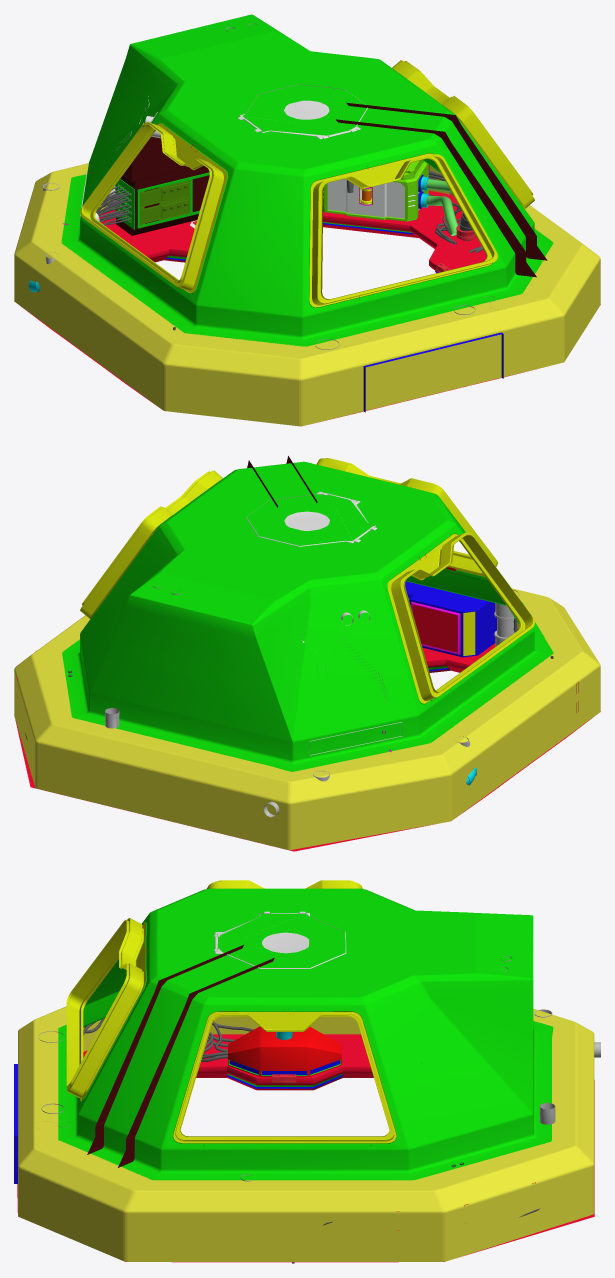
The model's file is ceiling.fbx.
The picture shows the model from 3 angles, top to bottom: view 1: azimuth 30°, elevation 25°; view 2: azimuth 150°, elevation 25°; view 3: azimuth 270°, elevation 25°; orthographic projection. The views are drawn at different scales.
Visible parts, largest first — view 1: plafond, coursive_technique, bande_led, super_computer, repartiteur, pillar_01, small_cable, holo_plafond, braided_cable, grille_aeration; view 2: plafond, coursive_technique, grille_aeration, bande_led, metal_pipe, holo_plafond; view 3: plafond, coursive_technique, top_exp, bande_led, pillar_01, holo_plafond, small_cable, metal_pipe.
Boxes of the visible parts, box(x1,y1,x2,y2) form: plafond: box(61, 14, 553, 346); coursive_technique: box(14, 163, 600, 426); bande_led: box(14, 190, 600, 421); super_computer: box(115, 136, 209, 235); repartiteur: box(323, 160, 429, 221); pillar_01: box(336, 102, 547, 277); small_cable: box(96, 170, 483, 330); holo_plafond: box(238, 84, 367, 139); braided_cable: box(426, 179, 457, 235); grille_aeration: box(363, 332, 503, 412); plafond: box(62, 458, 553, 771); coursive_technique: box(14, 588, 600, 849); grille_aeration: box(405, 581, 496, 657); bande_led: box(15, 643, 600, 851); metal_pipe: box(105, 584, 519, 817); holo_plafond: box(246, 491, 377, 546); plafond: box(58, 880, 553, 1180); coursive_technique: box(18, 1006, 594, 1261); top_exp: box(228, 1026, 341, 1077); bande_led: box(17, 1034, 594, 1262); pillar_01: box(87, 945, 274, 1167); holo_plafond: box(214, 911, 346, 968); small_cable: box(83, 1018, 540, 1263); metal_pipe: box(38, 956, 600, 1181).
Size of the model in its own units: 276 by 128 by 298.
